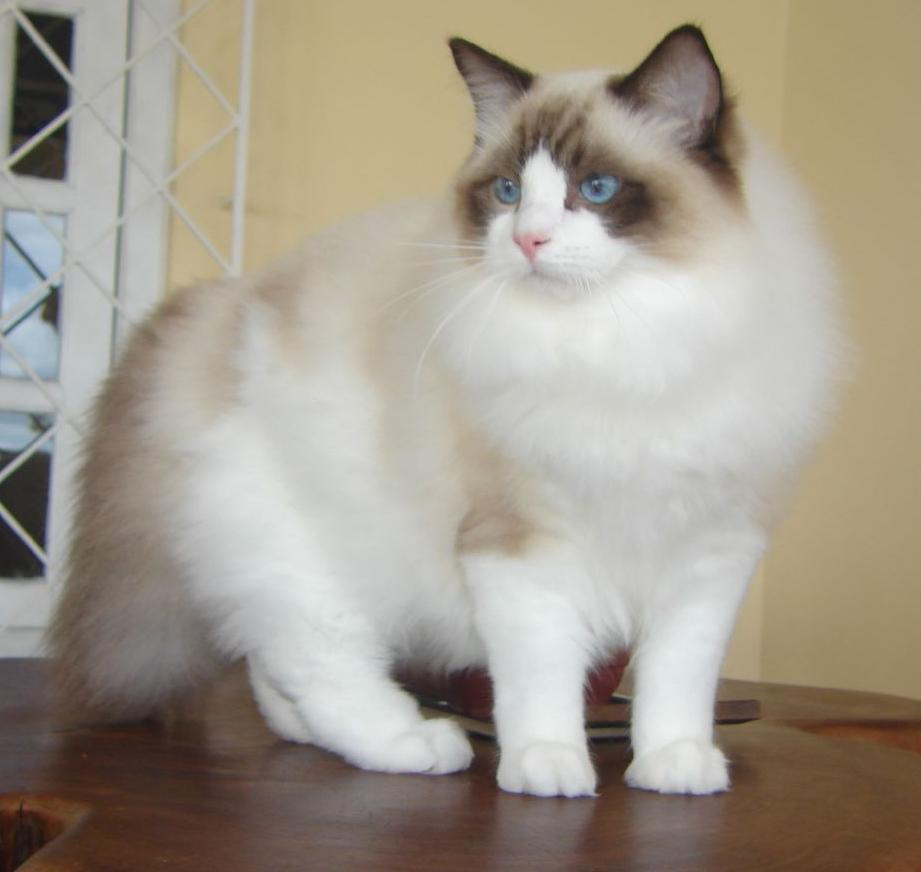ragdoll: (432, 20, 740, 320)
